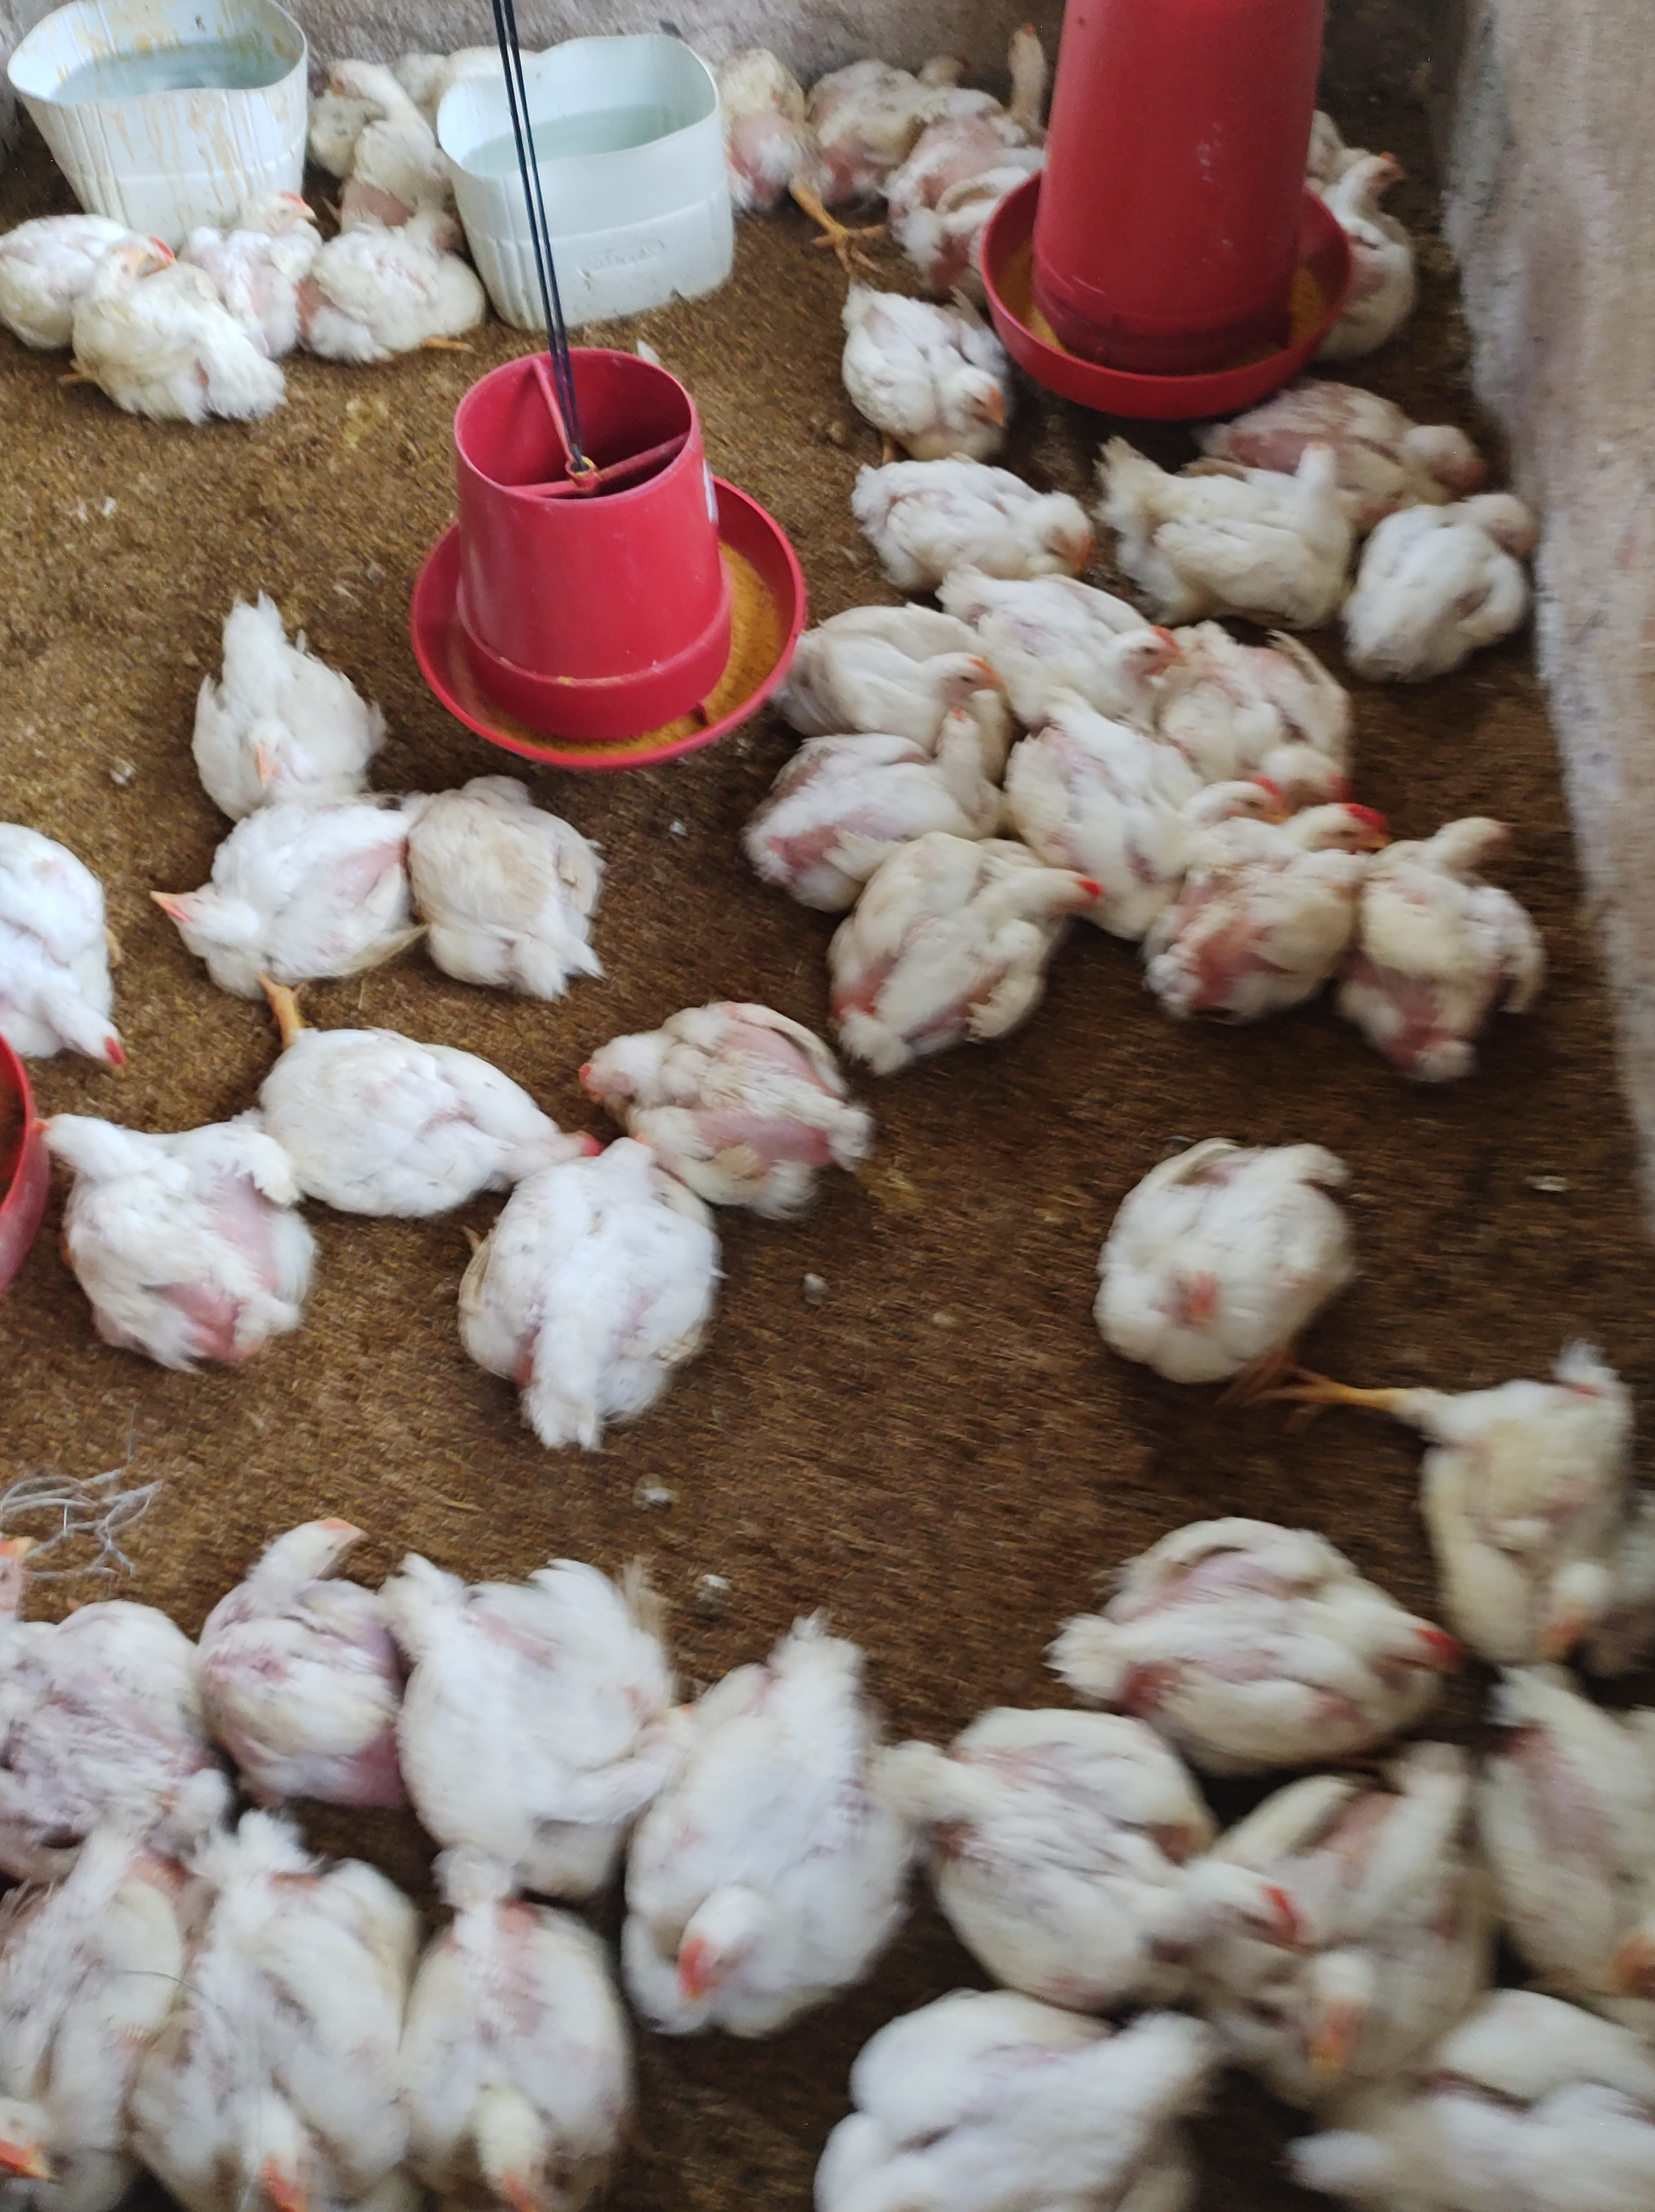Pollos: (643, 1647, 914, 2021), (1093, 1490, 1457, 1760), (9, 1089, 322, 1389), (911, 1694, 1212, 1998), (172, 1824, 409, 2209), (824, 1986, 1226, 2212), (450, 1148, 728, 1456), (417, 1546, 657, 1901), (1100, 1111, 1361, 1389), (409, 1904, 643, 2212), (1439, 1325, 1655, 1654), (1253, 1802, 1500, 2085), (271, 1009, 600, 1221), (577, 998, 881, 1221), (834, 833, 1097, 1069), (221, 1473, 419, 1786), (1358, 805, 1563, 1080), (0, 1534, 202, 1812), (146, 791, 407, 993), (400, 763, 626, 995), (1111, 412, 1353, 621), (763, 703, 982, 923), (1502, 1659, 1655, 1974), (1172, 803, 1382, 1024), (169, 586, 379, 793), (0, 1882, 132, 2209), (0, 821, 134, 1099), (829, 270, 1043, 442), (833, 443, 1087, 588), (1182, 621, 1387, 795), (1373, 489, 1547, 685), (982, 543, 1182, 711), (1293, 139, 1441, 358), (782, 581, 991, 736), (800, 42, 937, 237), (1259, 388, 1481, 482), (709, 49, 808, 235), (42, 198, 189, 283), (376, 207, 482, 323), (242, 184, 327, 299), (327, 49, 421, 151), (1189, 750, 1269, 850), (987, 23, 1062, 115), (87, 243, 146, 325)
